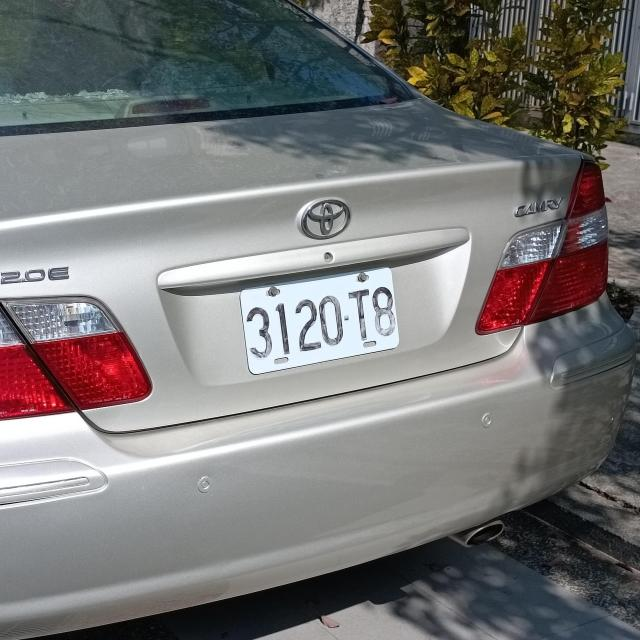W: (239, 267, 403, 375)
